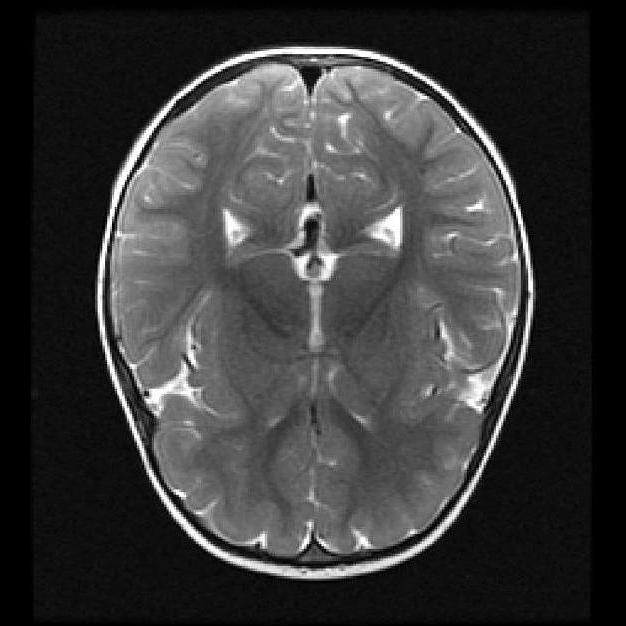Normal_Brain: (88, 1, 626, 626)
